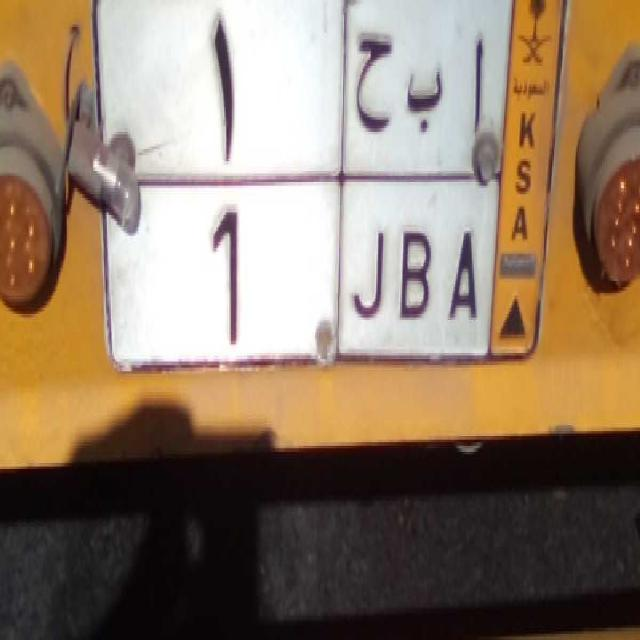license_plate: (114, 177, 498, 369)
